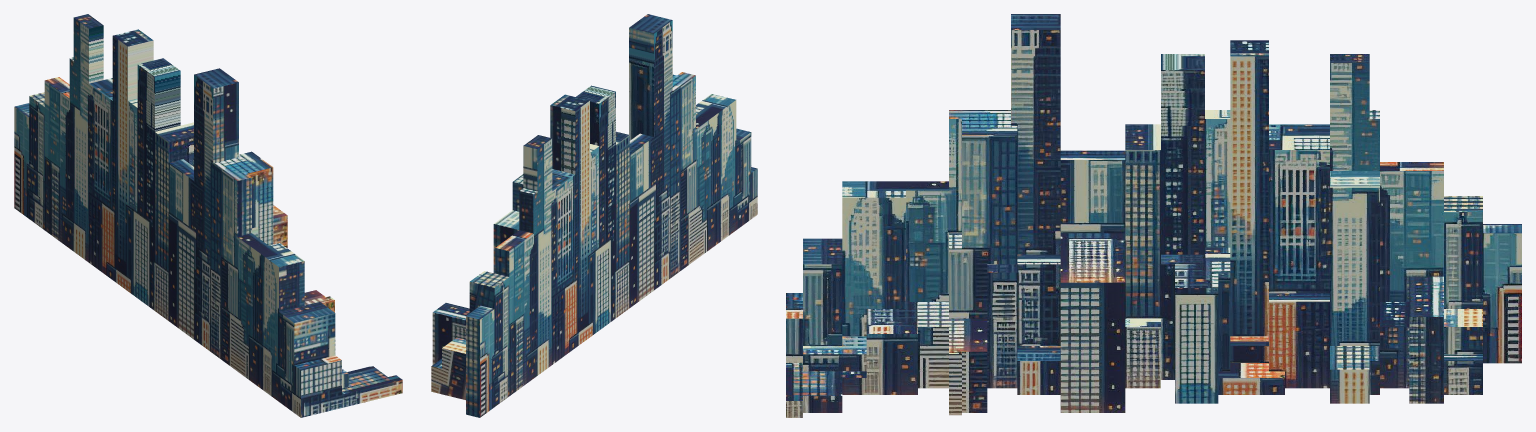
The model's file is CitysKyline.glb.
3 renders of one model, left to right at view 1: azimuth 30°, elevation 25°; view 2: azimuth 150°, elevation 25°; view 3: azimuth 270°, elevation 25°, orthographic. The views are drawn at different scales.
Visible parts, largest first — view 1: OIG1 (22); view 2: OIG1 (22); view 3: OIG1 (22).
Part boxes in pixels (x1,y1,x2,y2): OIG1 (22): (14,14,402,417); OIG1 (22): (431,14,757,417); OIG1 (22): (786,14,1521,417).
Bounding box in the file's own units: 0.2049 × 0.5102 × 1.
Materials: 1 (1 with a texture image).
